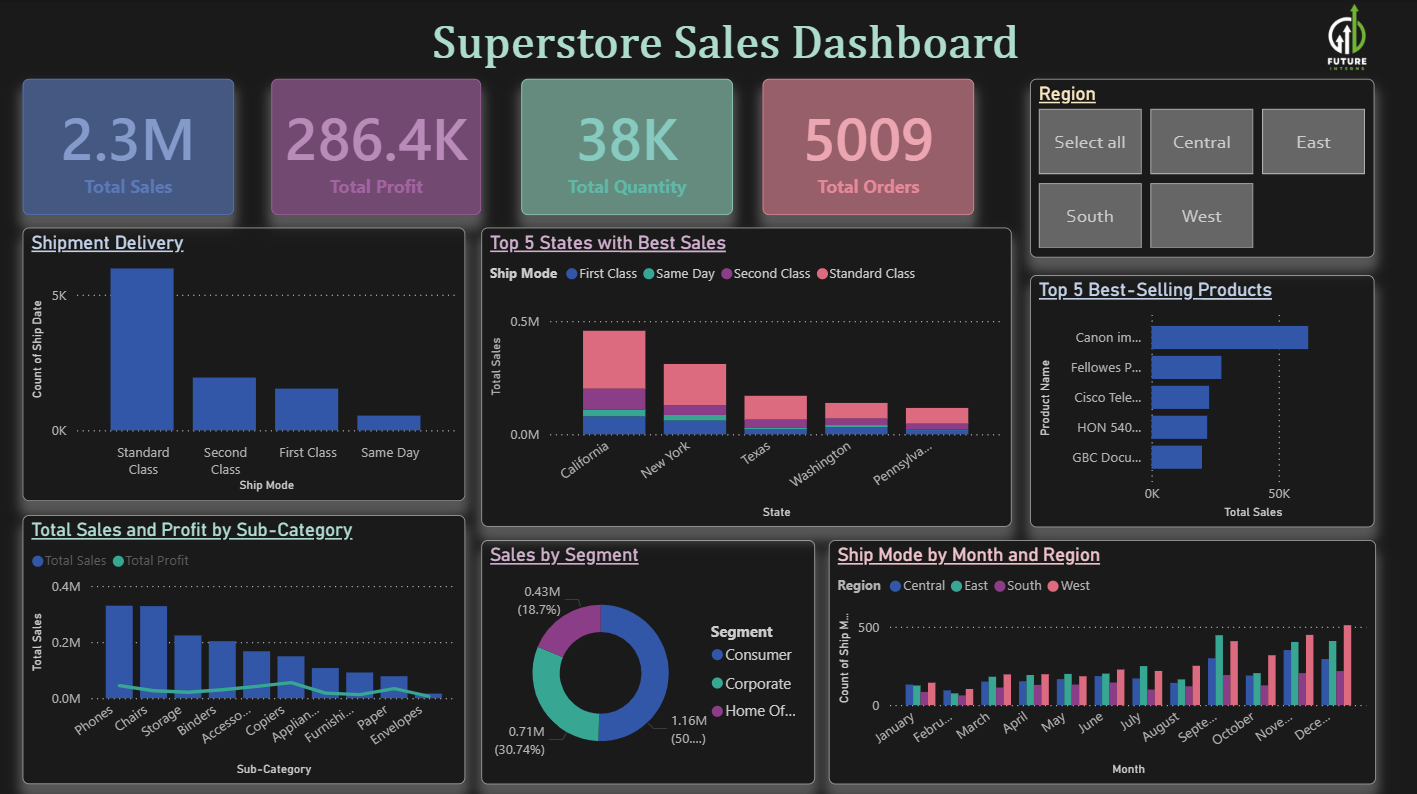

The page's visual inventory and layout, read from the dashboard file:
{"tool":"powerbi","page":{"name":"Page 2","canvas":[1280,720],"ordinal":0},"visuals":[{"type":"textbox","box":[376.1,12.4,513.9,58.3],"z":0},{"type":"card","fields":{"Values":["Orders.Total Sales"]},"box":[20.3,71.1,190.8,123.1],"z":1},{"type":"card","fields":{"Values":["Orders.Total Orders"]},"box":[688.9,70.8,191.2,122.9],"z":2},{"type":"card","fields":{"Values":["Orders.Total Quantity"]},"box":[470.4,70.8,191.2,122.9],"z":3},{"type":"card","fields":{"Values":["Orders.Total Profit"]},"box":[244.5,70.8,189.9,122.9],"z":4},{"type":"donutChart","title":"Sales by Segment","fields":{"Category":["Orders.Segment"],"Y":["Orders.Total Sales"]},"box":[434.5,487.8,301.6,220.9],"z":10},{"type":"columnChart","title":"Top 5 States with Best Sales","fields":{"Category":["Orders.State"],"Y":["Orders.Total Sales"],"Series":["Orders.Ship Mode"]},"box":[434.5,206.1,479.1,270.6],"z":12},{"type":"clusteredBarChart","title":"Top 5 Best-Selling Products ","fields":{"Category":["Orders.Product Name"],"Y":["Orders.Total Sales"]},"box":[931,248.3,311.6,228.4],"z":13},{"type":"clusteredColumnChart","title":"Shipment Delivery","fields":{"Y":["CountNonNull(Orders.Ship Date)"],"Category":["Orders.Ship Mode"]},"box":[19.9,206.1,399.7,247],"z":14},{"type":"lineClusteredColumnComboChart","title":"Total Sales and Profit by Sub-Category","fields":{"Y2":["Orders.Total Profit"],"Y":["Orders.Total Sales"],"Category":["Orders.Sub-Category"]},"box":[19.9,465.5,399.7,243.3],"z":15},{"type":"clusteredColumnChart","title":"Ship Mode by Month and Region","fields":{"Y":["CountNonNull(Orders.Ship Mode)"],"Category":["Orders.Ship Date.Variation.Date Hierarchy.Month"],"Series":["Orders.Region"]},"box":[748.5,487.8,494,220.9],"z":16},{"type":"advancedSlicerVisual","fields":{"Values":["Orders.Region"]},"box":[931,70.8,311.6,161.4],"z":17}]}

Visuals, with their boxes in screenshot pixels (x1, y1, x2, y2), scaled from the page's 1280x720 canvas onto the 1417x794 screenshot:
textbox: left=416, top=14, right=985, bottom=78
card - Orders.Total Sales: left=22, top=78, right=234, bottom=214
card - Orders.Total Orders: left=763, top=78, right=974, bottom=214
card - Orders.Total Quantity: left=521, top=78, right=732, bottom=214
card - Orders.Total Profit: left=271, top=78, right=481, bottom=214
"Sales by Segment" donutChart: left=481, top=538, right=815, bottom=782
"Top 5 States with Best Sales" columnChart: left=481, top=227, right=1011, bottom=526
"Top 5 Best-Selling Products " clusteredBarChart: left=1031, top=274, right=1376, bottom=526
"Shipment Delivery" clusteredColumnChart: left=22, top=227, right=465, bottom=500
"Total Sales and Profit by Sub-Category" lineClusteredColumnComboChart: left=22, top=513, right=465, bottom=782
"Ship Mode by Month and Region" clusteredColumnChart: left=829, top=538, right=1375, bottom=782
advancedSlicerVisual - Orders.Region: left=1031, top=78, right=1376, bottom=256
